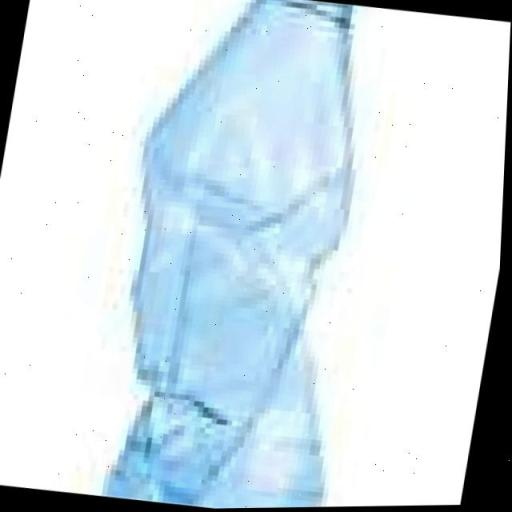plastic: (66, 0, 411, 511)
